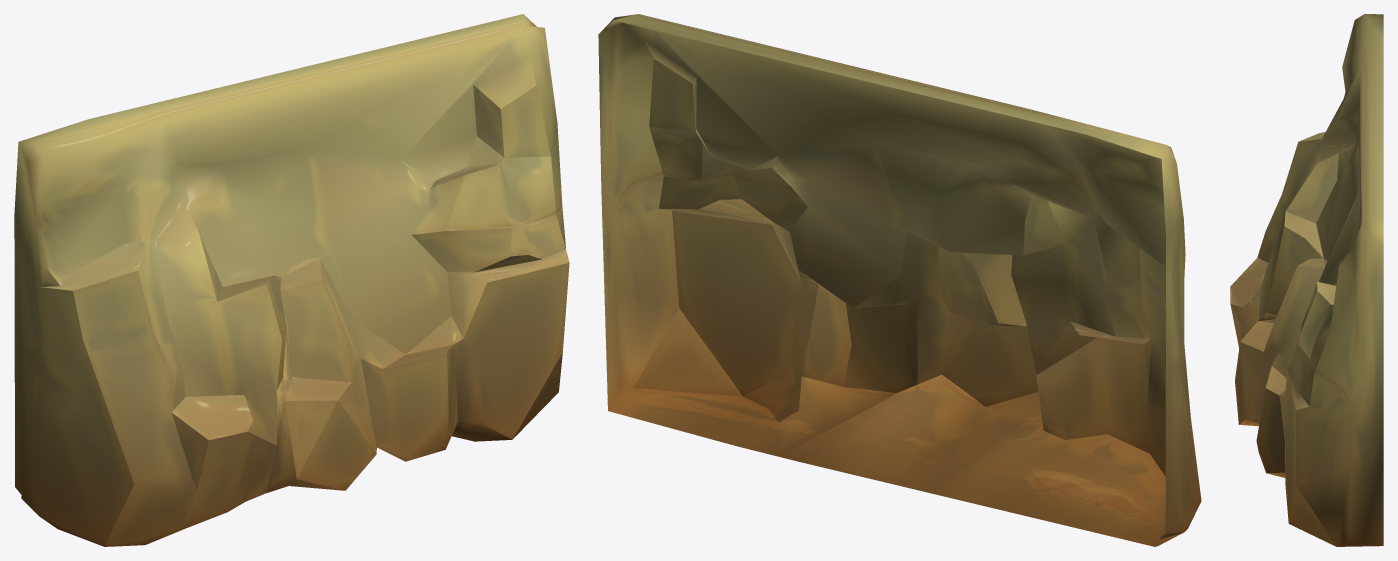
File: wall_side.fbx
The picture shows the model from 3 angles, left to right: view 1: azimuth 30°, elevation 25°; view 2: azimuth 150°, elevation 25°; view 3: azimuth 270°, elevation 25°; orthographic projection. The views are drawn at different scales.
Parts seen in each view (by area): view 1: wall_side; view 2: wall_side; view 3: wall_side.
Boxes of the visible parts, box(x1,y1,x2,y2) form: wall_side: box(14, 14, 569, 546); wall_side: box(598, 14, 1201, 546); wall_side: box(1230, 14, 1383, 546).
Size of the model in its own units: 45.53 by 30.62 by 13.01.
